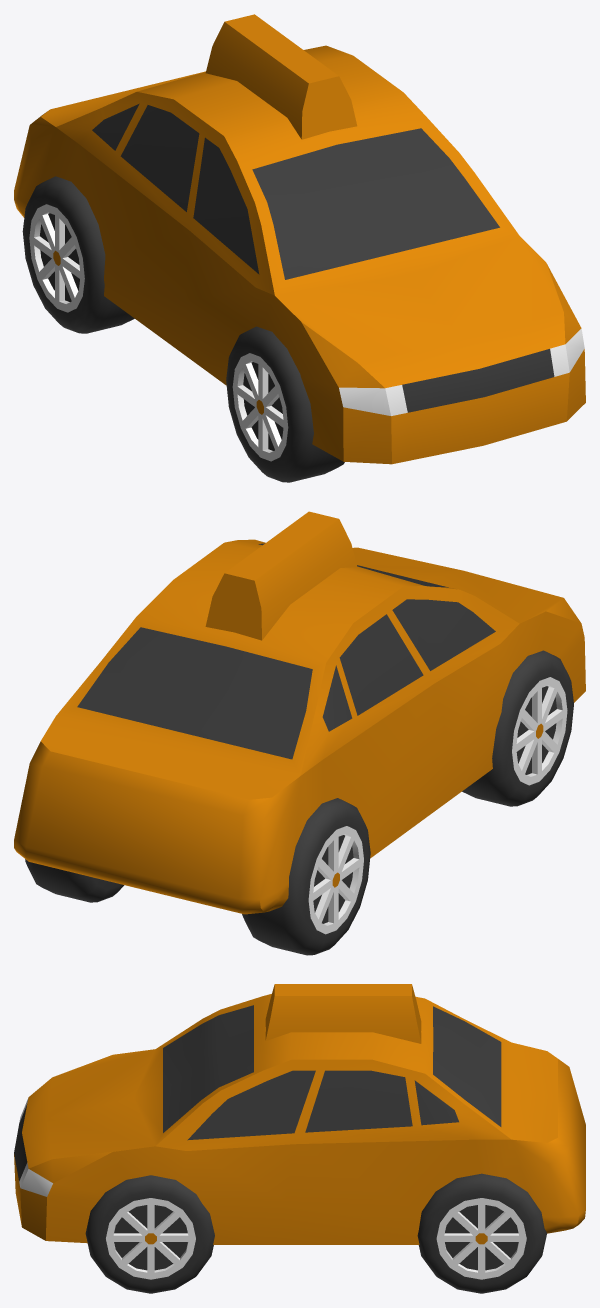
The model's file is Car_Taxi.fbx.
3 views of the same model, one above another, from view 1: azimuth 30°, elevation 25°; view 2: azimuth 150°, elevation 25°; view 3: azimuth 270°, elevation 25° (orthographic). The views are drawn at different scales.
Visible parts, largest first — view 1: Car_Taxi, Wheel.001, Top; view 2: Car_Taxi, Wheel.001, Top; view 3: Car_Taxi, Wheel.001, Top.
Part boxes in pixels (x1=…): Car_Taxi: x1=14, y1=45, x2=585, y2=464; Wheel.001: x1=22, y1=176, x2=344, y2=482; Top: x1=205, y1=14, x2=357, y2=139; Car_Taxi: x1=14, y1=539, x2=585, y2=914; Wheel.001: x1=25, y1=650, x2=573, y2=955; Top: x1=205, y1=511, x2=357, y2=640; Car_Taxi: x1=14, y1=994, x2=585, y2=1244; Wheel.001: x1=85, y1=1173, x2=546, y2=1293; Top: x1=265, y1=984, x2=421, y2=1043.
Size of the model in its own units: 250 by 545 by 266.
